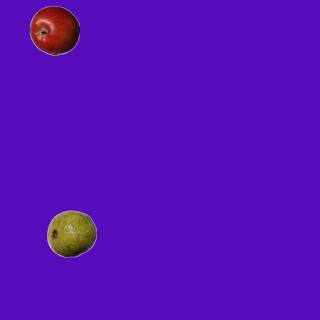Apple Braeburn: (29, 5, 79, 55)
Guava: (46, 208, 96, 258)
